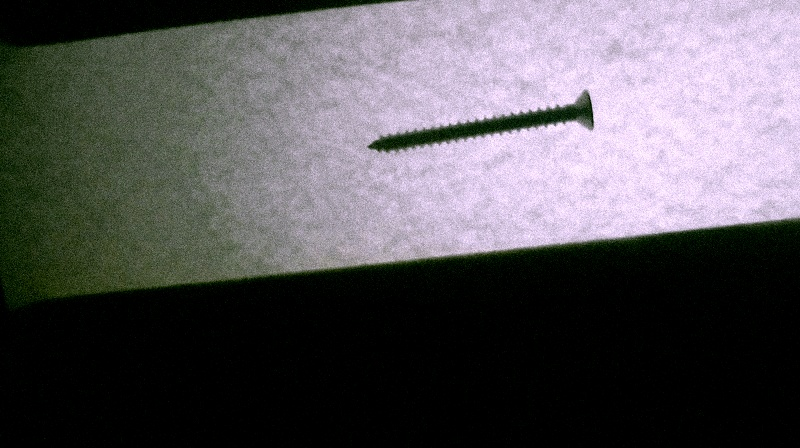S002: (363, 86, 596, 155)
